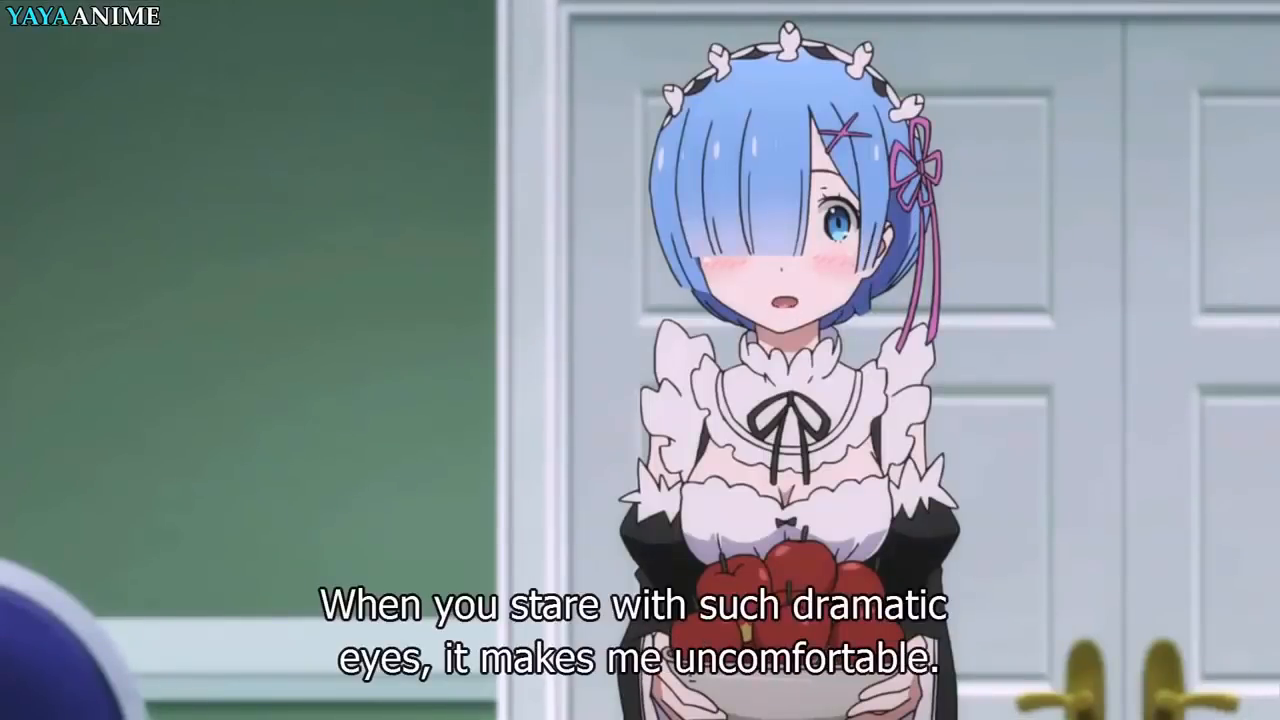REM: (638, 40, 942, 333)
